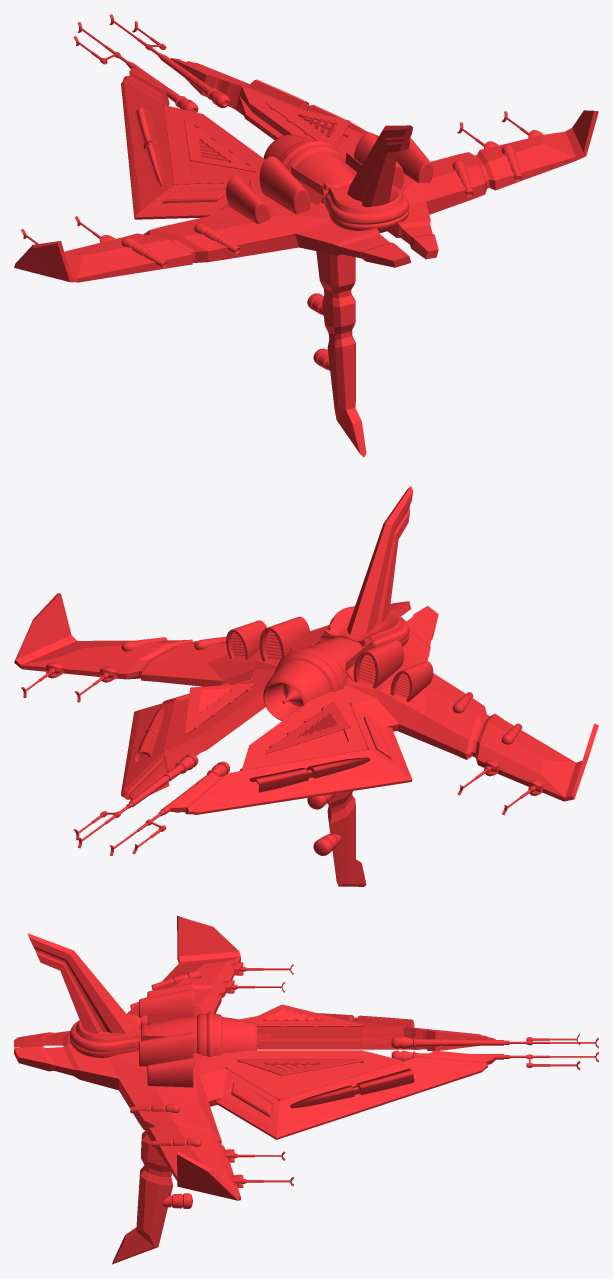
Rendered from NaveDefault.glb.
3 renders of one model, top to bottom at view 1: azimuth 30°, elevation 25°; view 2: azimuth 150°, elevation 25°; view 3: azimuth 270°, elevation 25°, orthographic. The views are drawn at different scales.
Visible parts, largest first — view 1: nave_espacial; view 2: nave_espacial; view 3: nave_espacial.
Part boxes in pixels (x1,y1,x2,y2): nave_espacial: (14, 14, 598, 457); nave_espacial: (14, 486, 598, 886); nave_espacial: (14, 915, 598, 1264).
Bounding box in the file's own units: 8 × 5 × 8.
